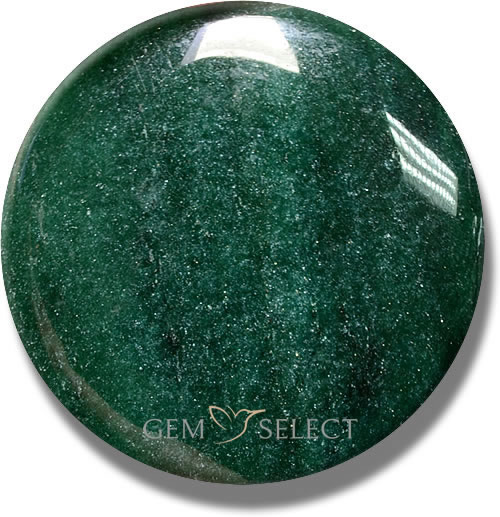Aventurine: (0, 1, 487, 487)
